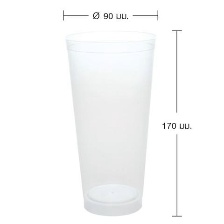glass: (57, 21, 169, 216)
